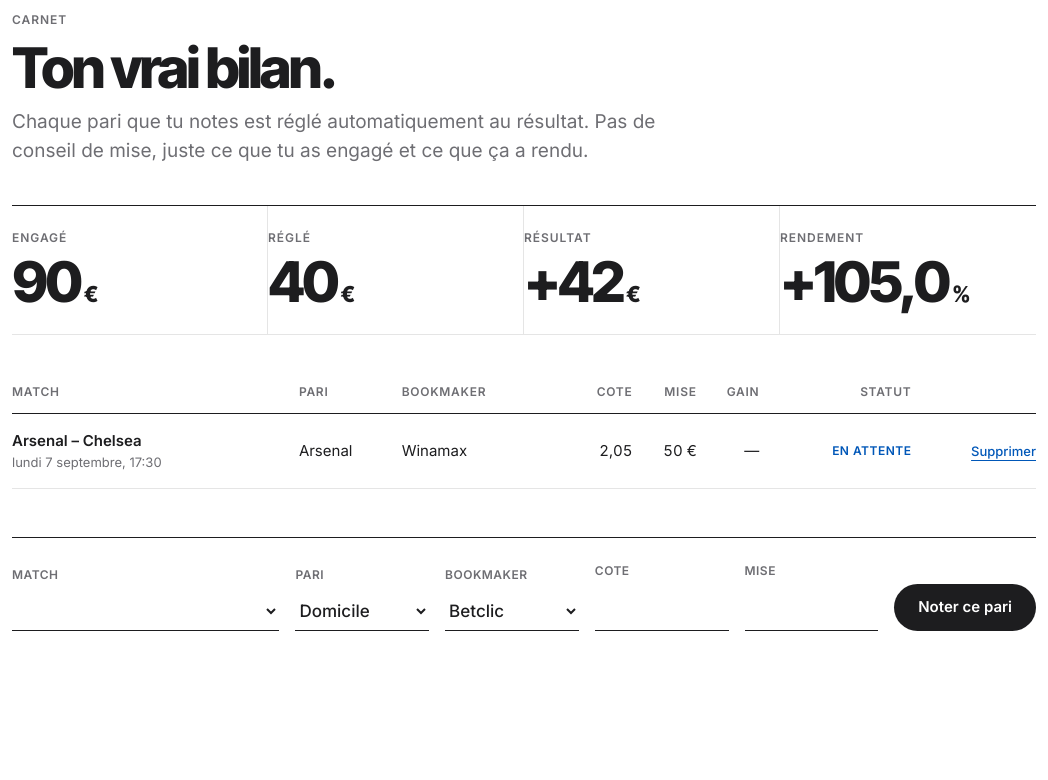
Test: carnet › suppression : échec affiche le message d'erreur
Click the button "Supprimer" at (1004, 452), box [971,442,1036,461]
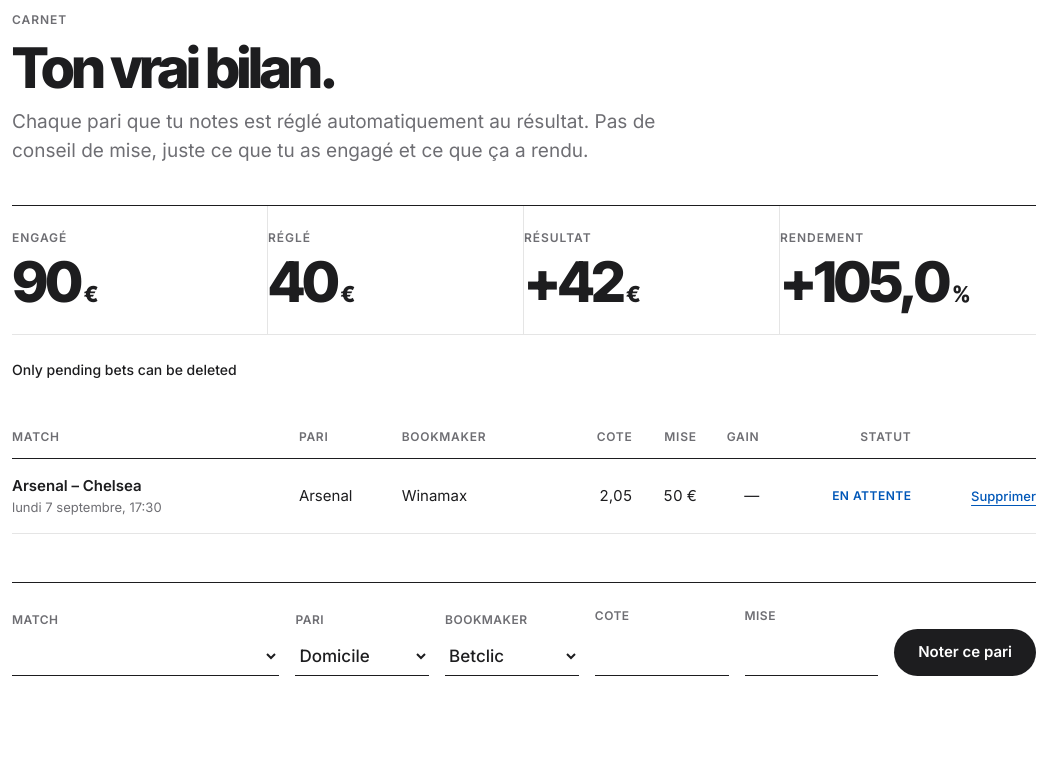
Result: the message reads "Only pending bets can be deleted" at [12,361,237,378]
